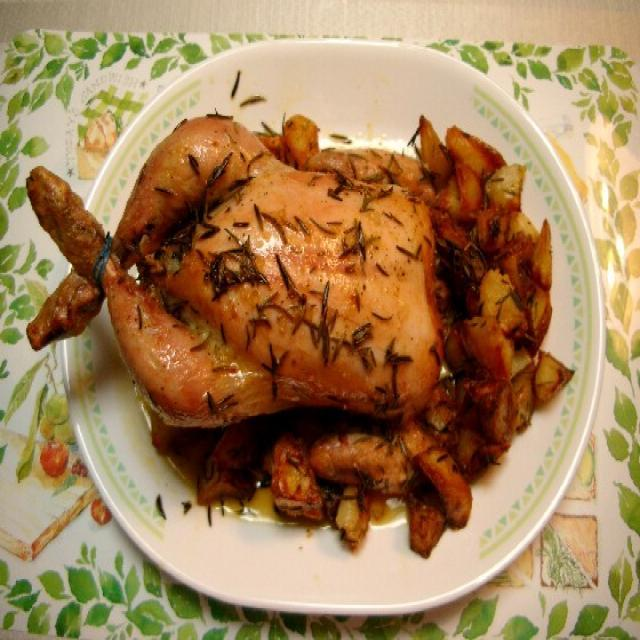Chicken roast: (32, 125, 449, 436)
Potato: (448, 122, 567, 439)
